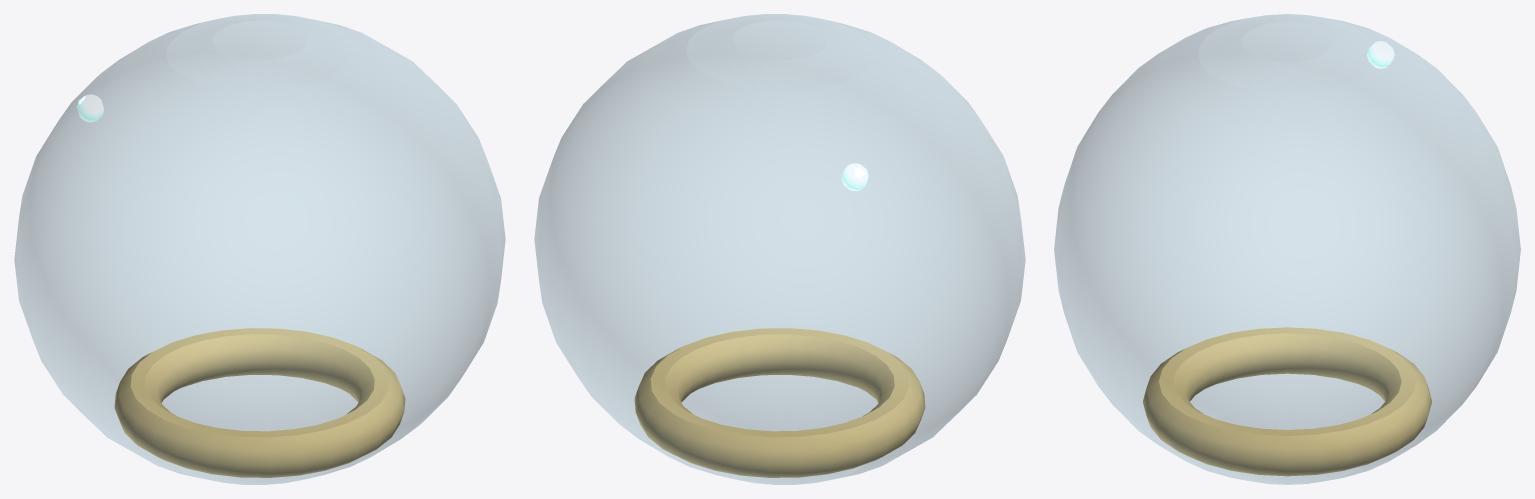
Rendered from Acc_Helmet.fbx.
3 renders of one model, left to right at view 1: azimuth 30°, elevation 25°; view 2: azimuth 150°, elevation 25°; view 3: azimuth 270°, elevation 25°, orthographic.
Visible parts, largest first — view 1: Helmet_Dome, Helmet_Collar, Helmet_Light; view 2: Helmet_Dome, Helmet_Collar, Helmet_Light; view 3: Helmet_Dome, Helmet_Collar, Helmet_Light.
Boxes of the visible parts, bbox=[...] form: Helmet_Dome: bbox=[14, 14, 505, 484]; Helmet_Collar: bbox=[114, 328, 405, 477]; Helmet_Light: bbox=[77, 94, 104, 122]; Helmet_Dome: bbox=[534, 14, 1025, 484]; Helmet_Collar: bbox=[634, 328, 925, 477]; Helmet_Light: bbox=[841, 163, 868, 191]; Helmet_Dome: bbox=[1054, 14, 1520, 484]; Helmet_Collar: bbox=[1143, 327, 1431, 476]; Helmet_Light: bbox=[1367, 41, 1394, 68].
Size of the model in its own units: 106 by 100 by 100.
